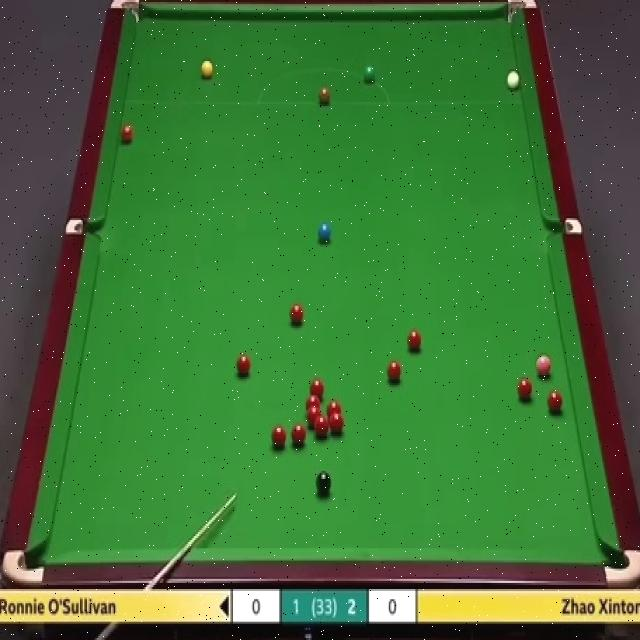black-ball: (315, 469, 332, 499)
blue-ball: (317, 223, 333, 244)
brown-ball: (318, 85, 331, 106)
green-ball: (362, 65, 376, 84)
pink-ball: (536, 352, 552, 378)
red-ball: (290, 421, 307, 450), (235, 352, 252, 380), (518, 377, 535, 402), (547, 391, 565, 414), (270, 424, 286, 449), (328, 412, 344, 437), (386, 360, 401, 385), (289, 304, 305, 326), (408, 328, 422, 353), (315, 414, 328, 438), (308, 378, 325, 396), (119, 125, 134, 144), (307, 408, 321, 427), (306, 394, 320, 410), (327, 402, 341, 416)
white-ball: (506, 69, 522, 89)
yellow-ball: (201, 61, 215, 81)
